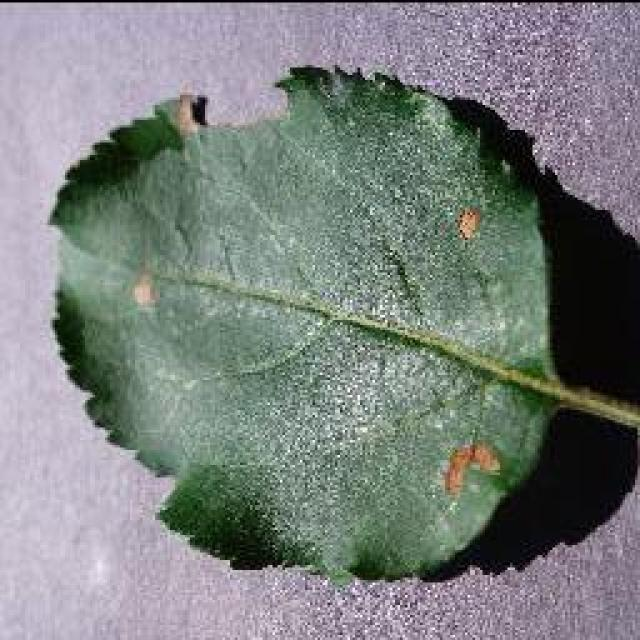Black_rot: (45, 60, 637, 585)
